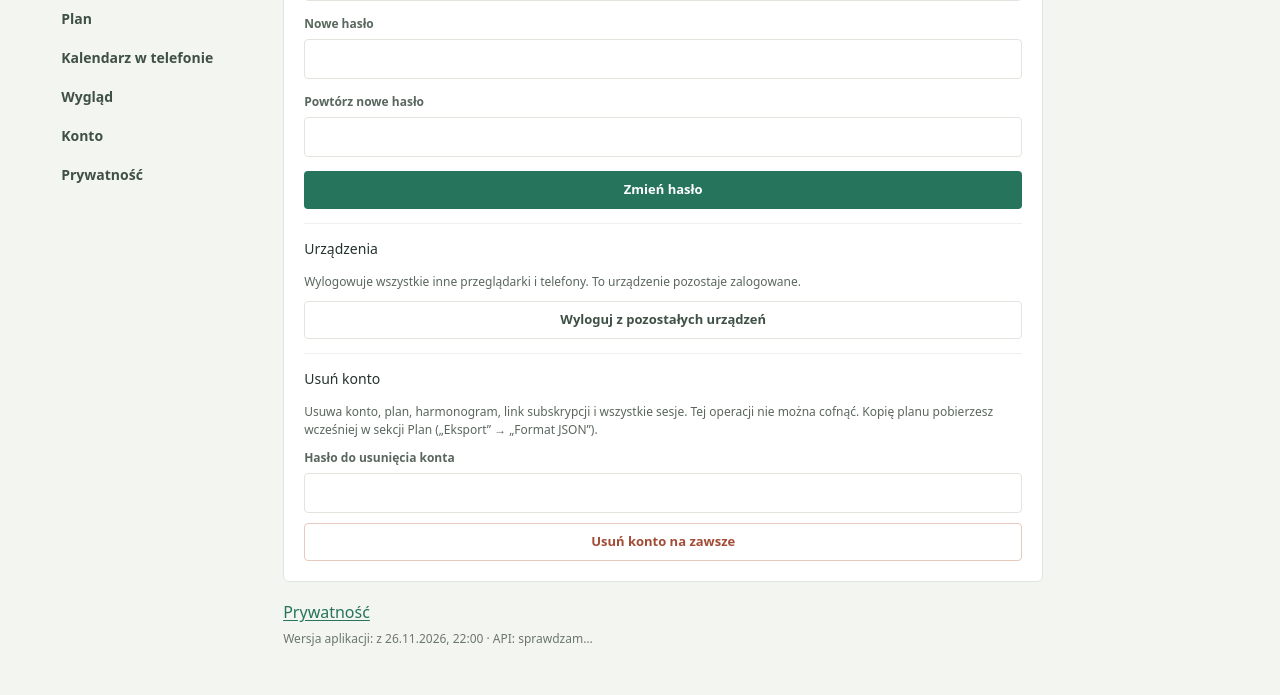
Test case: settings: account › deletes the account after confirmation and returns to login
(page scrolled)
Check: the button "Usuń konto na zawsze" is disabled, box [304, 522, 1022, 560]
In the password field labelled "Hasło do usunięcia konta": point(663, 492) [304, 472, 1022, 512], type "correct-horse-battery"
(page scrolled)
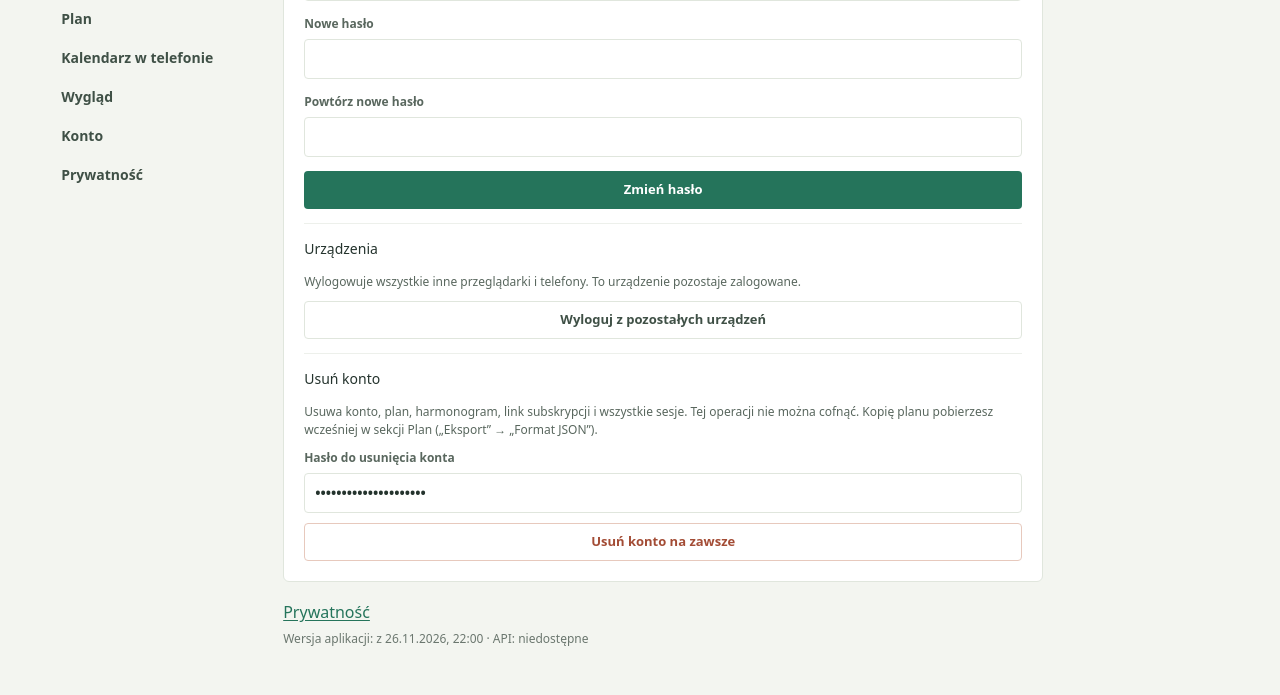
Click the button "Usuń konto na zawsze": point(663, 542) [304, 522, 1022, 560]
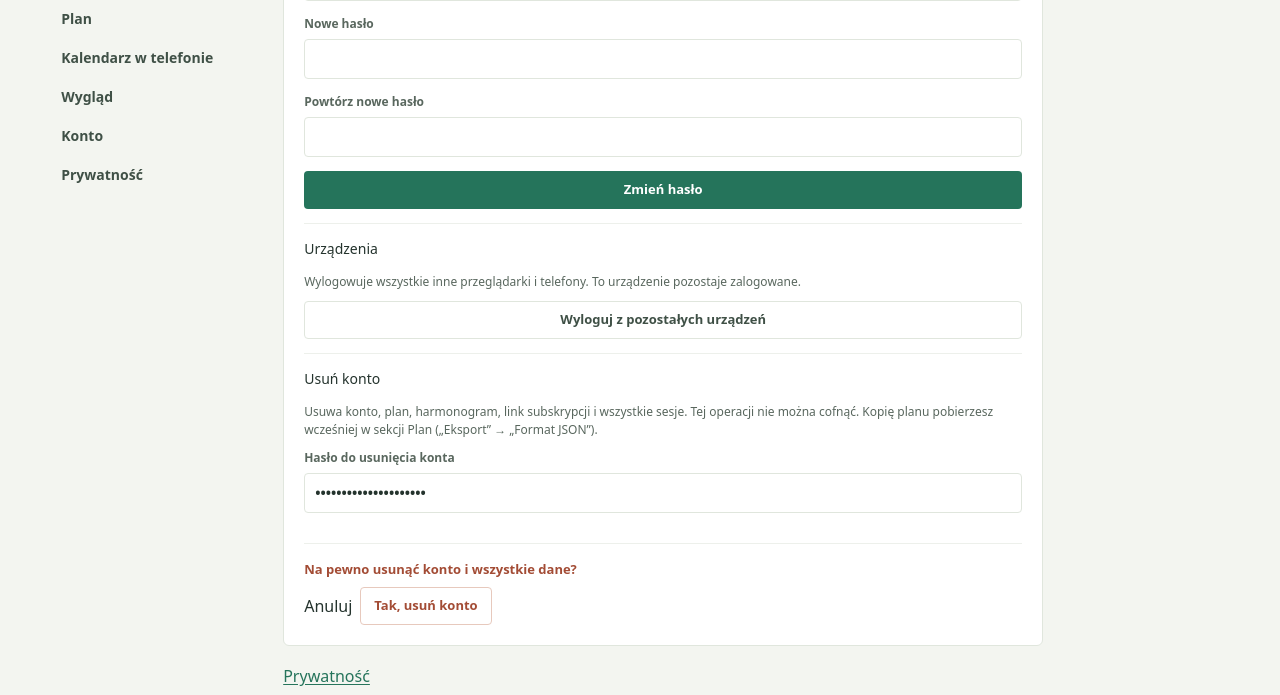
Click the button "Tak, usuń konto": point(426, 606) [360, 587, 492, 625]
(page scrolled)
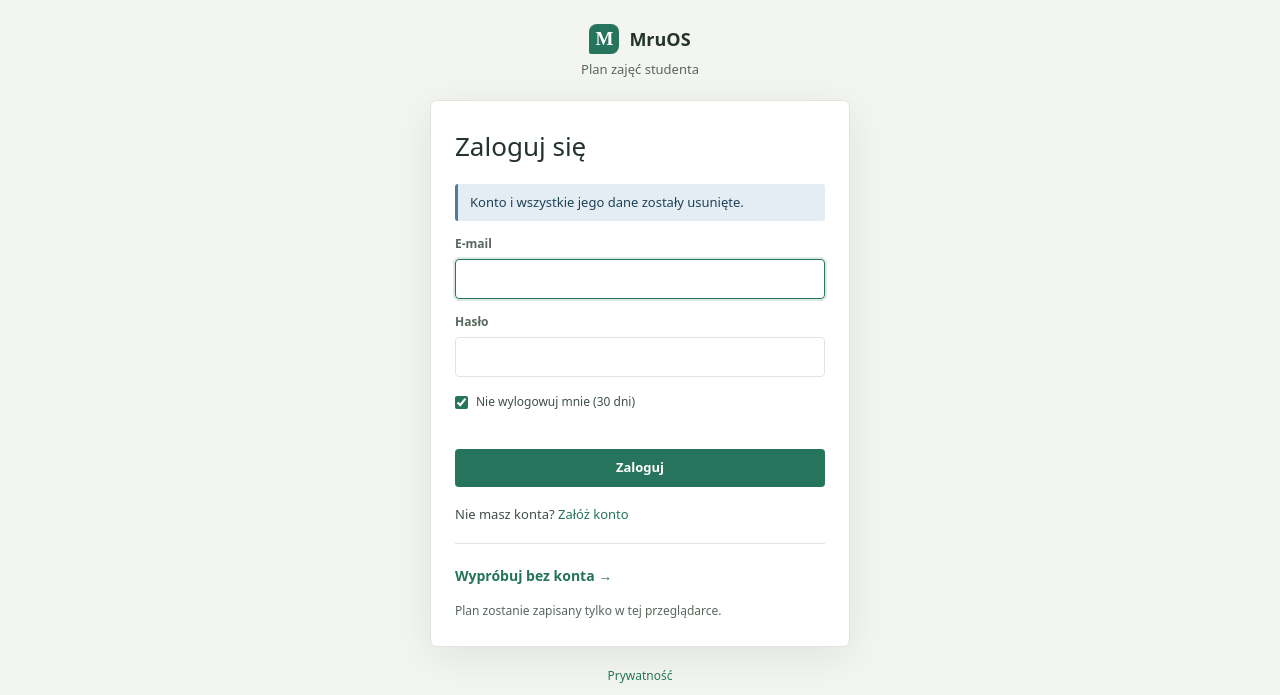
Check: the text "Konto i wszystkie jego dane zostały usunięte." is shown, box [455, 184, 825, 221]
Check: the heading "Zaloguj się" is shown, box [455, 128, 586, 164]
